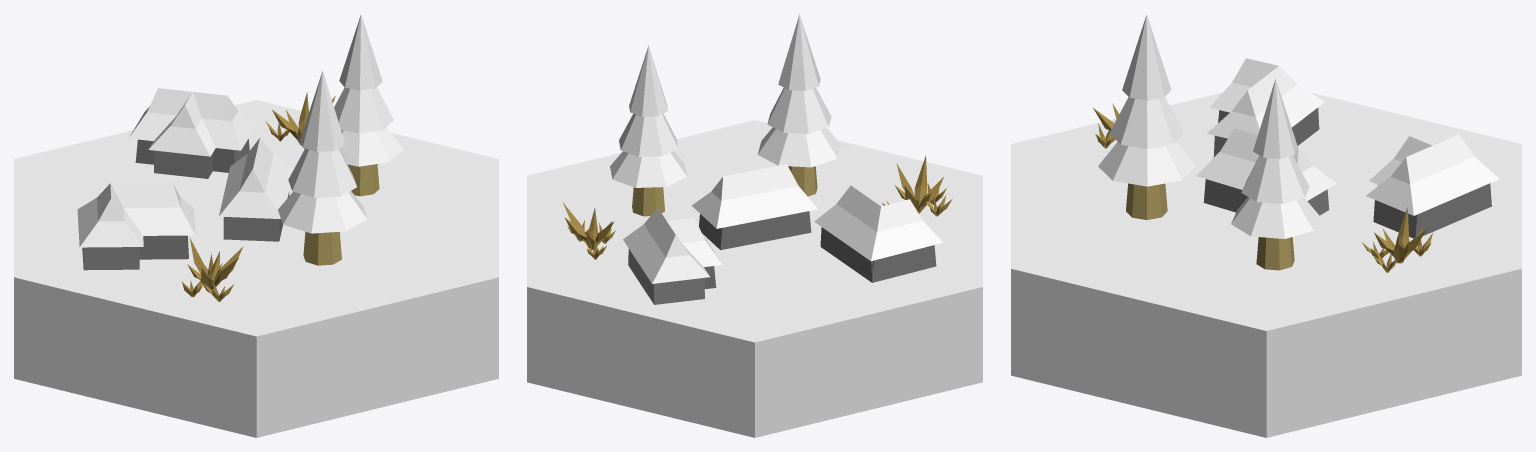
File: Casas_Pinos_Bajos_Nieve_3.fbx
3 renders of one model, left to right at view 1: azimuth 30°, elevation 25°; view 2: azimuth 150°, elevation 25°; view 3: azimuth 270°, elevation 25°, orthographic. The views are drawn at different scales.
Visible parts, largest first — view 1: Casas_Pinos_Bajos_Nieve_3; view 2: Casas_Pinos_Bajos_Nieve_3; view 3: Casas_Pinos_Bajos_Nieve_3.
Boxes of the visible parts, x1=… form: Casas_Pinos_Bajos_Nieve_3: x1=14, y1=14, x2=498, y2=437; Casas_Pinos_Bajos_Nieve_3: x1=527, y1=14, x2=982, y2=437; Casas_Pinos_Bajos_Nieve_3: x1=1011, y1=14, x2=1521, y2=437.
Bounding box in the file's own units: 200 × 114 × 173.
